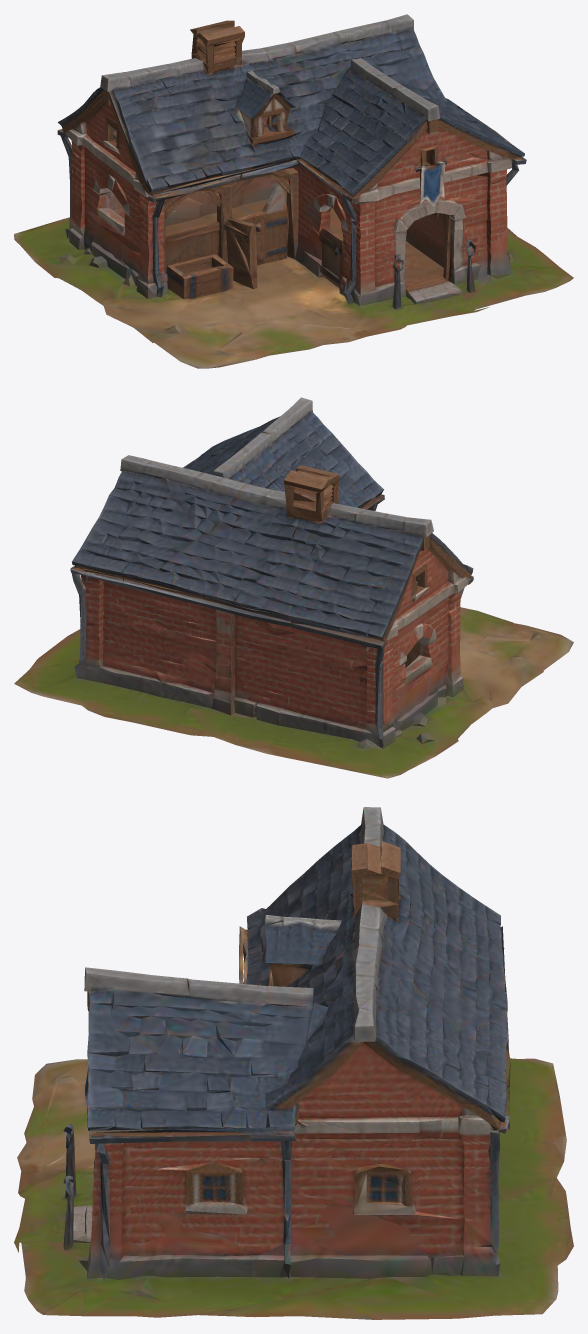
The model's file is stable.glb.
3 views of the same model, one above another, from view 1: azimuth 30°, elevation 25°; view 2: azimuth 150°, elevation 25°; view 3: azimuth 270°, elevation 25° (orthographic). The views are drawn at different scales.
Bounding box in the file's own units: 1.89 × 1.01 × 1.68.
1 material, 1 textured.
